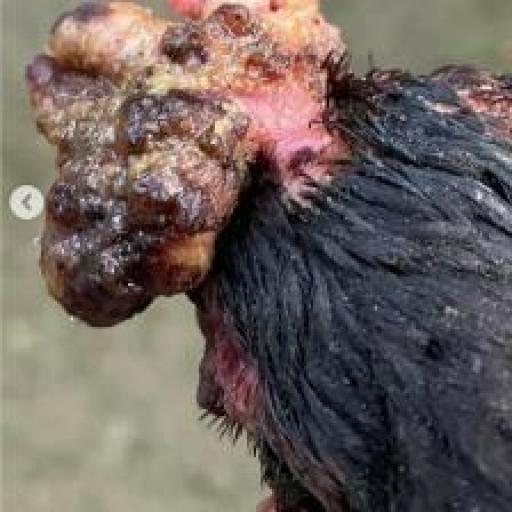disease: (10, 0, 378, 332)
